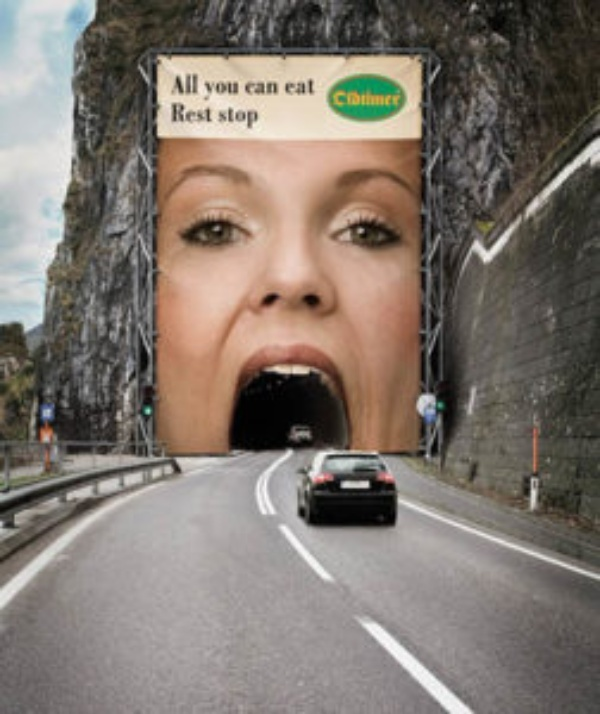text: (177, 72, 192, 96), (225, 105, 240, 129), (241, 105, 256, 129), (337, 86, 352, 110), (353, 86, 368, 110), (369, 86, 384, 110), (385, 86, 400, 110), (177, 100, 192, 122), (193, 100, 208, 122), (209, 79, 224, 100), (225, 79, 239, 100), (257, 79, 272, 96), (289, 79, 304, 96), (243, 79, 256, 96), (215, 105, 224, 129), (167, 100, 176, 122), (193, 72, 201, 96), (305, 79, 315, 96), (331, 86, 336, 110), (203, 79, 208, 100), (273, 79, 279, 96), (172, 72, 176, 96), (401, 86, 405, 110), (284, 79, 288, 96), (209, 100, 212, 122), (257, 105, 258, 129)
